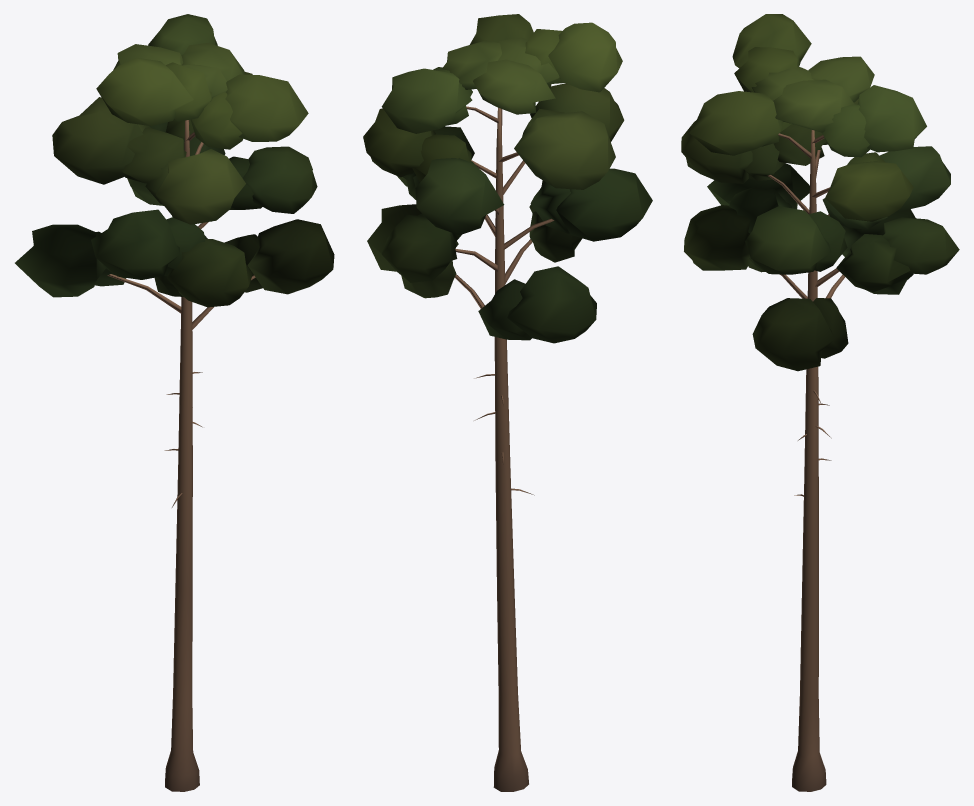
File: loblolly-pine.glb
The picture shows the model from 3 angles, left to right: view 1: azimuth 30°, elevation 25°; view 2: azimuth 150°, elevation 25°; view 3: azimuth 270°, elevation 25°; orthographic projection. The views are drawn at different scales.
Parts seen in each view (by area): view 1: LoblollyPine; view 2: LoblollyPine; view 3: LoblollyPine.
Boxes of the visible parts, x1,y1,x2,y2 form: LoblollyPine: (15,14,334,791); LoblollyPine: (363,14,652,791); LoblollyPine: (681,14,959,791).
Size of the model in its own units: 8.98 by 25.15 by 8.56.
